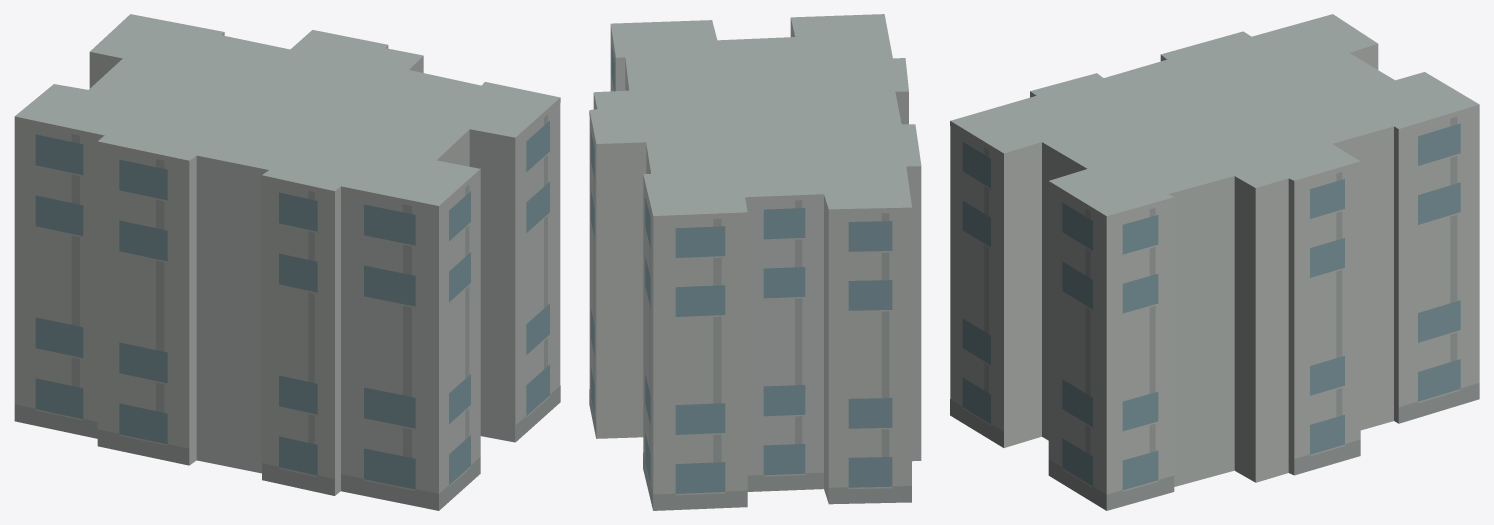
The model's file is survey-upis-32812119.glb.
The picture shows the model from 3 angles, left to right: view 1: azimuth 30°, elevation 25°; view 2: azimuth 150°, elevation 25°; view 3: azimuth 270°, elevation 25°; orthographic projection. The views are drawn at different scales.
Visible parts, largest first — view 1: survey-upis-32812119.tmp; view 2: survey-upis-32812119.tmp; view 3: survey-upis-32812119.tmp.
Boxes of the visible parts, bbox=[...] form: survey-upis-32812119.tmp: bbox=[14, 14, 560, 510]; survey-upis-32812119.tmp: bbox=[589, 14, 921, 510]; survey-upis-32812119.tmp: bbox=[950, 14, 1479, 510].
Size of the model in its own units: 20.1 by 13.65 by 22.24.
